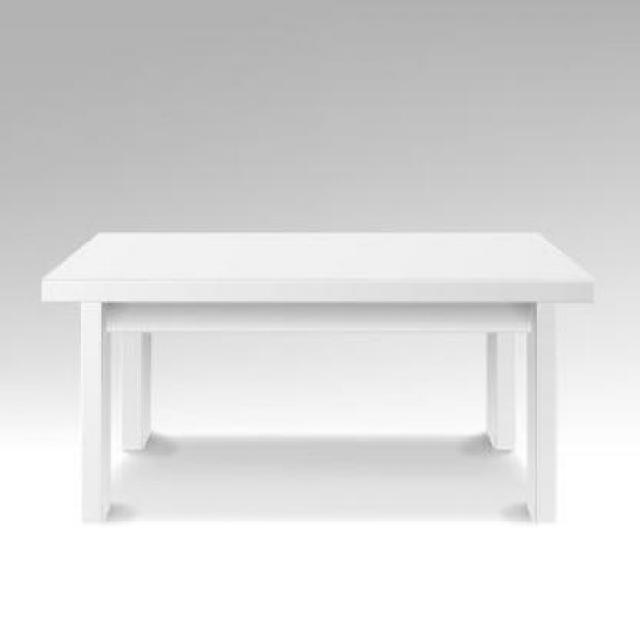table: (38, 228, 599, 523)
